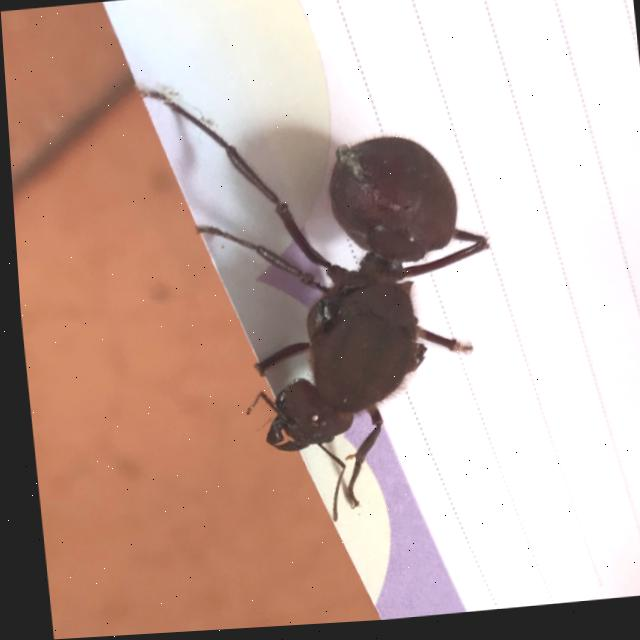Alive-Female-Dealate: (135, 59, 510, 539)
